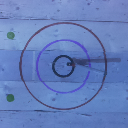Axe Tip: (72, 62, 86, 65)
